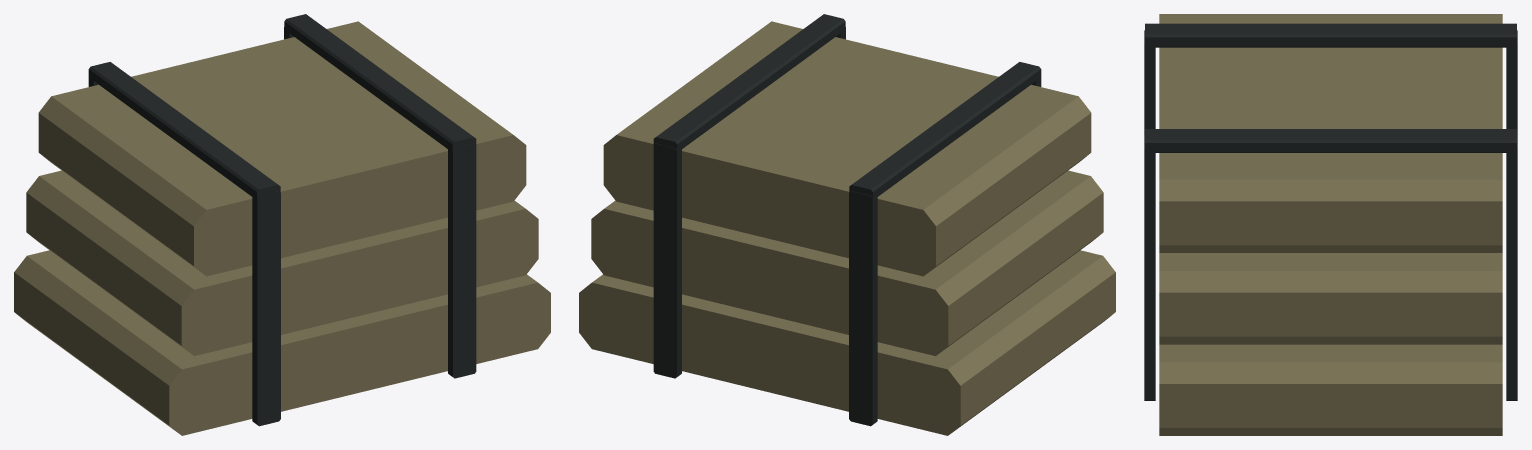
Rendered from TextileComponents.gltf.
3 renders of one model, left to right at view 1: azimuth 30°, elevation 25°; view 2: azimuth 150°, elevation 25°; view 3: azimuth 270°, elevation 25°, orthographic. The views are drawn at different scales.
Visible parts, largest first — view 1: TextileComponents; view 2: TextileComponents; view 3: TextileComponents.
Part boxes in pixels (x1,y1,x2,y2): TextileComponents: (14, 14, 550, 435); TextileComponents: (579, 14, 1115, 435); TextileComponents: (1144, 14, 1517, 435).
Bounding box in the file's own units: 0.39 × 0.231 × 0.299.
